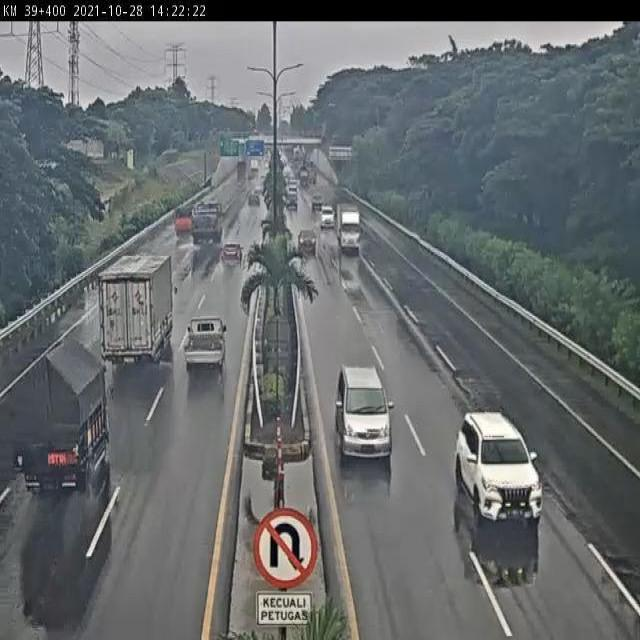car: (450, 409, 546, 524), (335, 366, 396, 466), (180, 315, 231, 381), (218, 242, 244, 274), (298, 224, 319, 253), (247, 188, 262, 212)
truck-l-: (98, 255, 179, 364), (191, 200, 225, 249)
truck-m-: (7, 337, 110, 491)
truck-s-: (334, 198, 363, 254), (174, 201, 195, 243)
